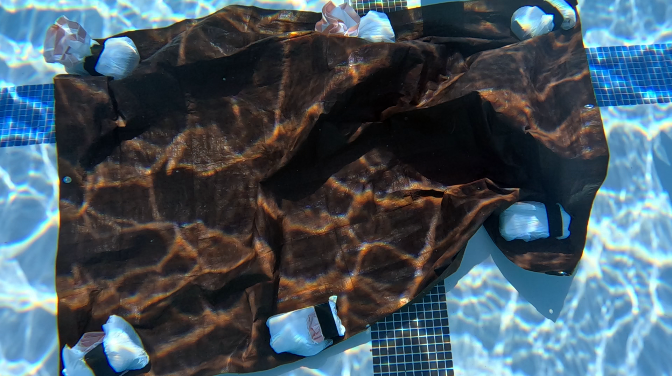sandbag: (42, 0, 610, 375)
